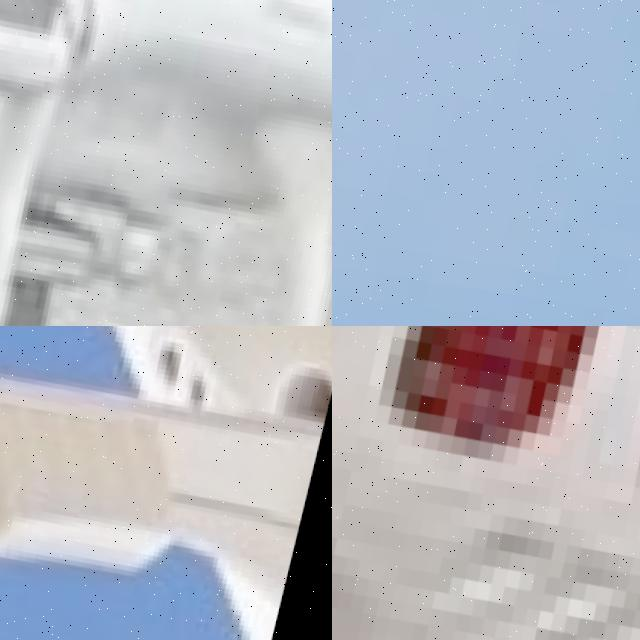0: (0, 0, 332, 326), (332, 326, 640, 640)
drone: (0, 326, 332, 640)
